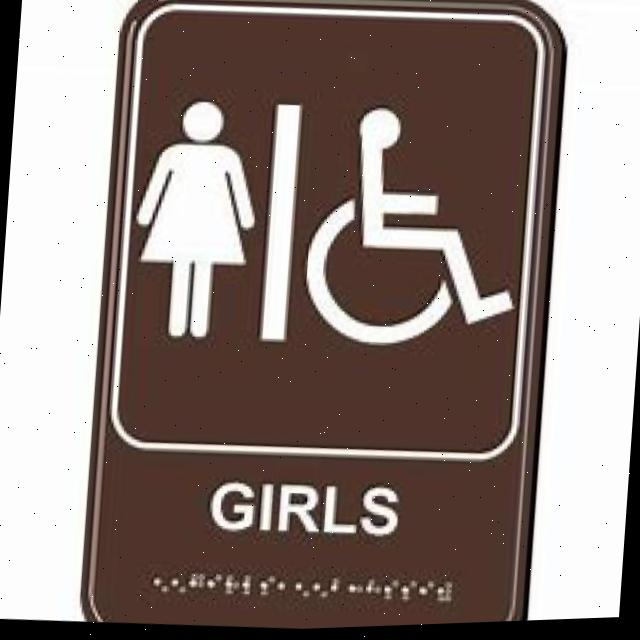symbol_of_access: (295, 97, 531, 368)
